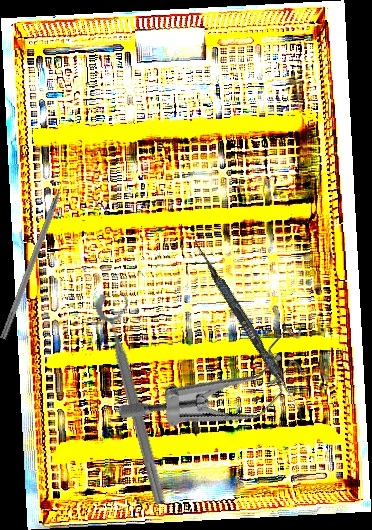Fixation Ring: (92, 287, 184, 507)
Hook Surgical: (0, 169, 72, 341)
Spatula Surgical: (187, 239, 312, 421)
Speculum: (113, 274, 329, 491)
